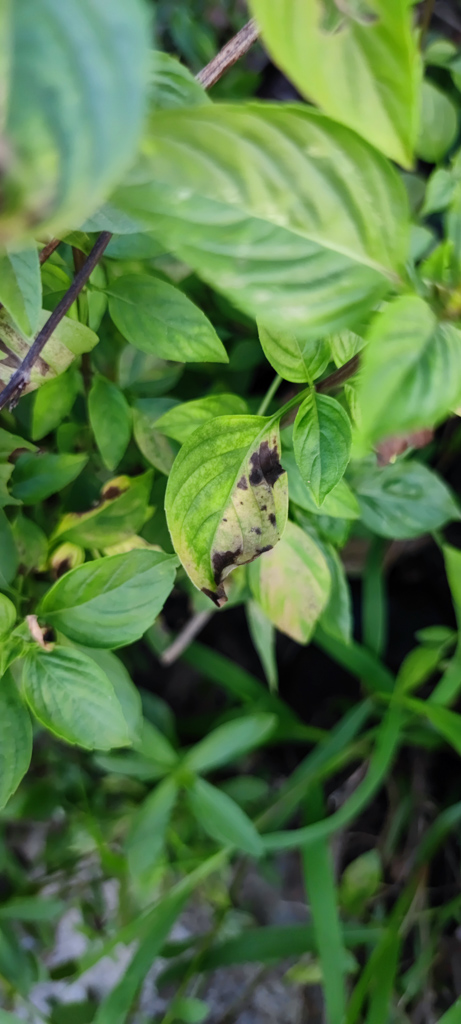Pepper yellow leaf: (233, 495, 343, 662), (205, 420, 289, 615)
